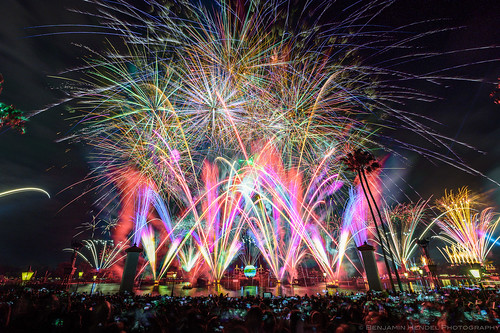fireworks: (29, 1, 444, 268)
